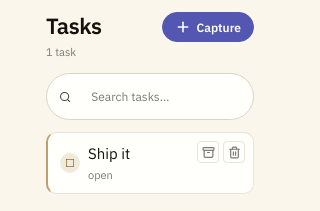
Test: V5EntityList › removes a row after archive from card actions
This screenshot has width=320, height=211.
Expected: the link "☐ Ship it open" is shown, [60,144,130,182]
What coordinates should you click on to do the following:
click the button named "Archive Ship it"
I would click on:
 (208, 152)
Its box is [197,141,219,163].
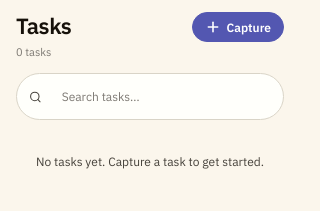
Now the link "Ship it" is gone
